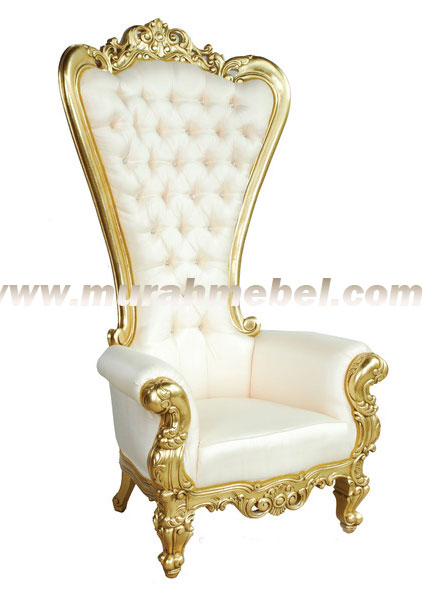Carving Chair: (62, 29, 386, 531)
